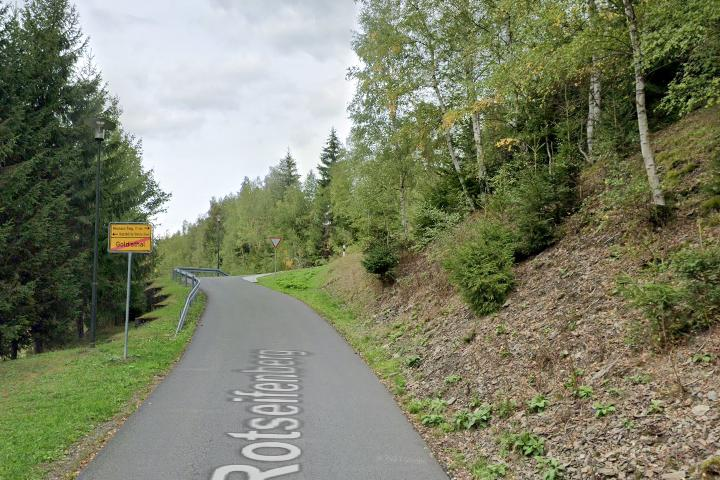traffic_sign: (270, 237, 282, 249)
